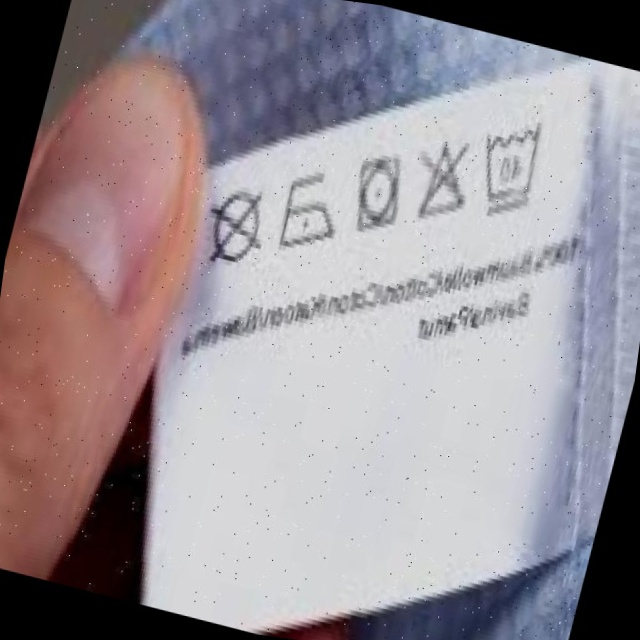40C: (466, 111, 561, 224)
DN_bleach: (403, 132, 485, 232)
DN_dry_clean: (194, 176, 279, 278)
iron_low: (268, 162, 351, 261)
tumble_dry_low: (342, 148, 416, 240)
